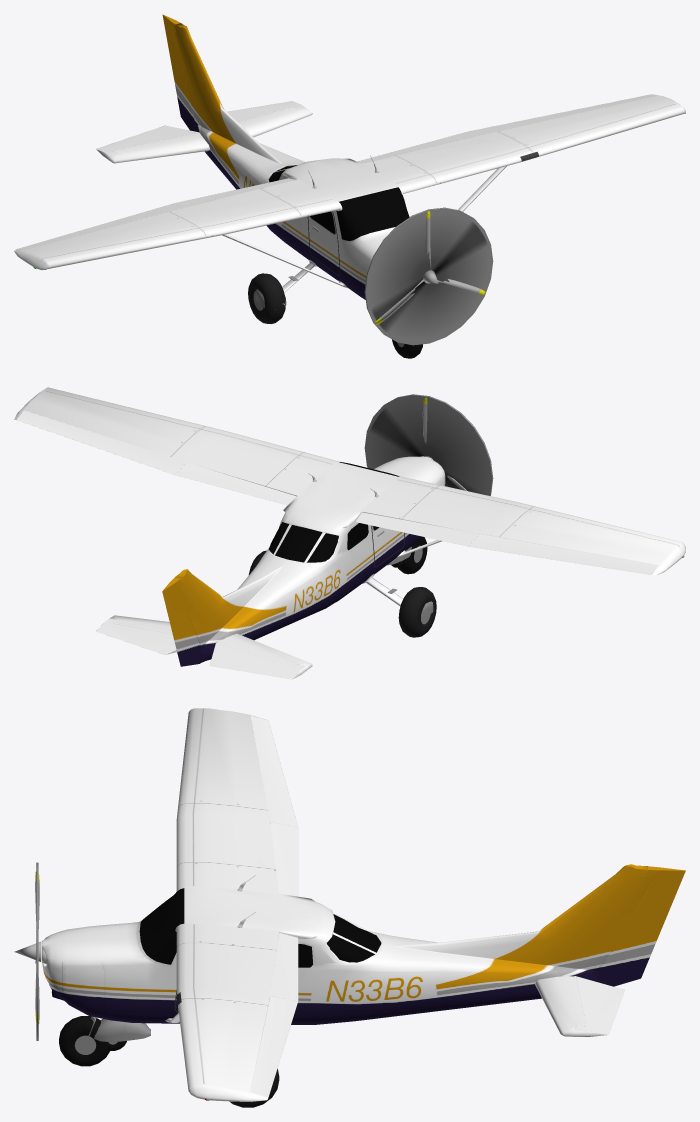
File: cessna_206.glb
The picture shows the model from 3 angles, top to bottom: view 1: azimuth 30°, elevation 25°; view 2: azimuth 150°, elevation 25°; view 3: azimuth 270°, elevation 25°; orthographic projection. The views are drawn at different scales.
Parts seen in each view (by area): view 1: Cessna_206, PropBlur, white, windows, LandingGear2, elevator, flaps, rudder, aill, ailr; view 2: Cessna_206, PropBlur, flaps, elevator, ailr, aill, white, LandingGear2, windows.001, rudder; view 3: Cessna_206, rudder, flaps, aill, ailr, white, LandingGear2, windows, elevator, windows.001, LandingGear1.
Boxes of the visible parts, x1,y1,x2,y2 form: Cessna_206: (14,23,685,299); PropBlur: (364,207,493,345); white: (96,106,506,292); windows: (310,187,409,240); LandingGear2: (248,273,422,358); elevator: (96,101,305,155); flaps: (176,131,479,206); rudder: (162,14,194,131); aill: (469,94,658,135); ailr: (17,203,185,250); Cessna_206: (14,387,685,662); PropBlur: (364,394,493,495); flaps: (175,462,479,546); elevator: (96,618,305,679); ailr: (468,534,658,574); aill: (16,410,186,474); white: (101,540,442,678); LandingGear2: (248,537,436,637); windows.001: (269,522,338,562); rudder: (162,577,200,666); Cessna_206: (41,708,652,1101); rudder: (599,866,685,986); flaps: (270,822,298,1001); aill: (250,996,297,1097); ailr: (250,715,297,827); white: (165,976,606,1037); LandingGear2: (59,1016,279,1107); windows: (139,888,184,964); elevator: (575,976,624,1034); windows.001: (327,914,381,962); LandingGear1: (94,1019,150,1050).
Size of the model in its own units: 11 by 2.67 by 8.1.
Materials: 31 (4 with a texture image).
